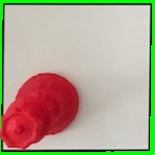Red Queen: (1, 68, 81, 150)
